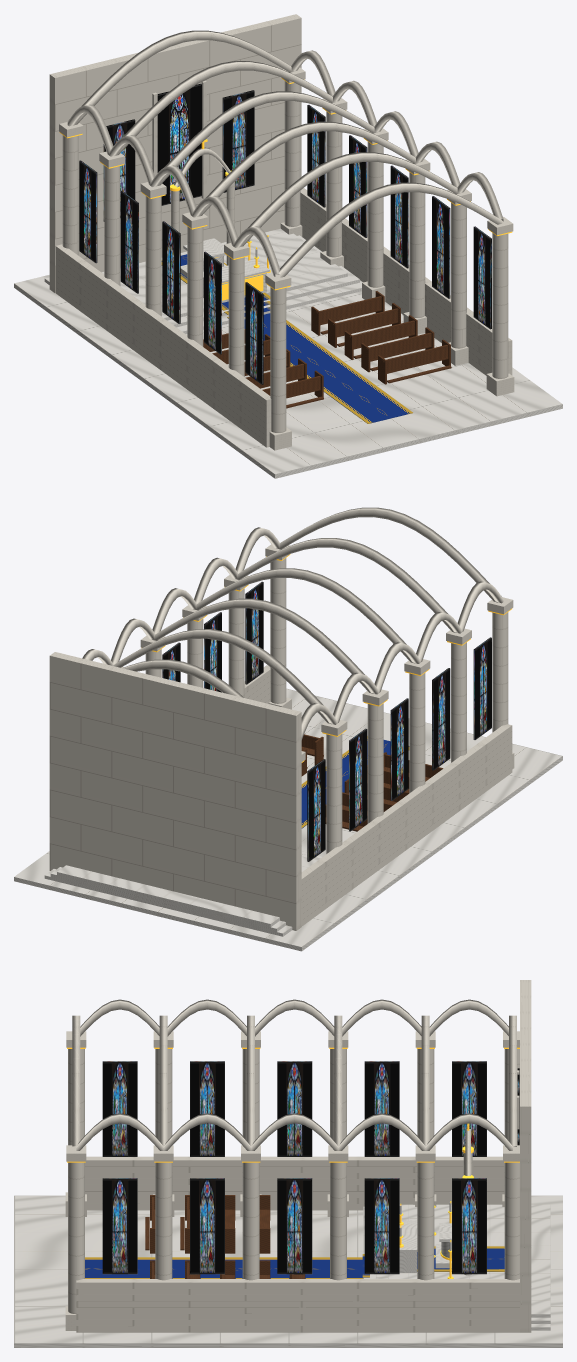
File: Catholic_Cathedral_Sanctuary.glb
The picture shows the model from 3 angles, top to bottom: view 1: azimuth 30°, elevation 25°; view 2: azimuth 150°, elevation 25°; view 3: azimuth 270°, elevation 25°; orthographic projection. The views are drawn at different scales.
Visible parts, largest first — view 1: Cathedral_Stone_Architecture, Sanctuary_Marble_Floor_And_Altar, Stained_Glass_Windows, Church_Wooden_Pews, Marian_Blue_Carpet_Runner, Sanctuary_Gold_Accents; view 2: Cathedral_Stone_Architecture, Sanctuary_Marble_Floor_And_Altar, Stained_Glass_Windows, Church_Wooden_Pews, Marian_Blue_Carpet_Runner; view 3: Cathedral_Stone_Architecture, Stained_Glass_Windows, Sanctuary_Marble_Floor_And_Altar, Marian_Blue_Carpet_Runner, Church_Wooden_Pews, Sanctuary_Gold_Accents.
Part boxes in pixels (left/top/right/bottom): Cathedral_Stone_Architecture: left=49, top=14, right=514, bottom=450; Sanctuary_Marble_Floor_And_Altar: left=14, top=228, right=562, bottom=478; Stained_Glass_Windows: left=79, top=83, right=491, bottom=384; Church_Wooden_Pews: left=203, top=291, right=451, bottom=408; Marian_Blue_Carpet_Runner: left=161, top=254, right=412, bottom=423; Sanctuary_Gold_Accents: left=59, top=78, right=512, bottom=300; Cathedral_Stone_Architecture: left=49, top=507, right=514, bottom=930; Sanctuary_Marble_Floor_And_Altar: left=14, top=688, right=562, bottom=951; Stained_Glass_Windows: left=162, top=581, right=491, bottom=861; Church_Wooden_Pews: left=301, top=734, right=443, bottom=831; Marian_Blue_Carpet_Runner: left=301, top=736, right=409, bottom=828; Cathedral_Stone_Architecture: left=65, top=980, right=531, bottom=1332; Stained_Glass_Windows: left=102, top=1061, right=519, bottom=1274; Sanctuary_Marble_Floor_And_Altar: left=14, top=1195, right=562, bottom=1347; Marian_Blue_Carpet_Runner: left=85, top=1246, right=504, bottom=1278; Church_Wooden_Pews: left=145, top=1195, right=305, bottom=1278; Sanctuary_Gold_Accents: left=67, top=1047, right=519, bottom=1278.
Size of the model in its own units: 14 by 10.96 by 22.
6 materials, 6 textured.
